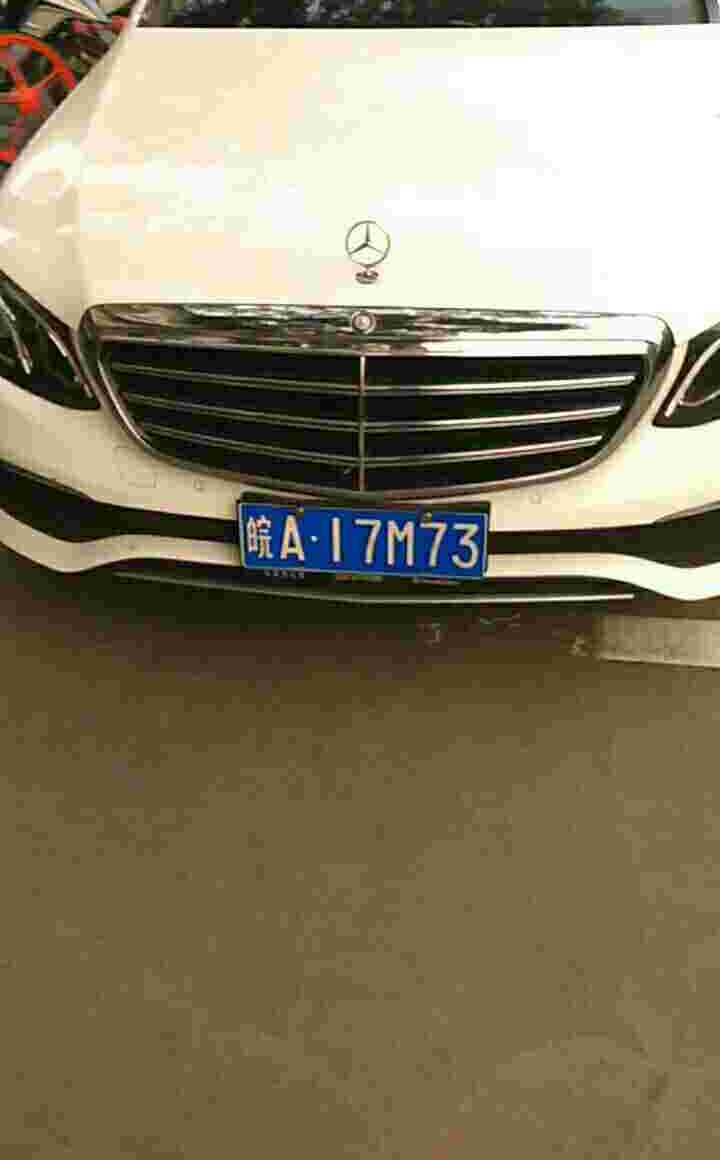license_plate: (246, 500, 483, 587)
